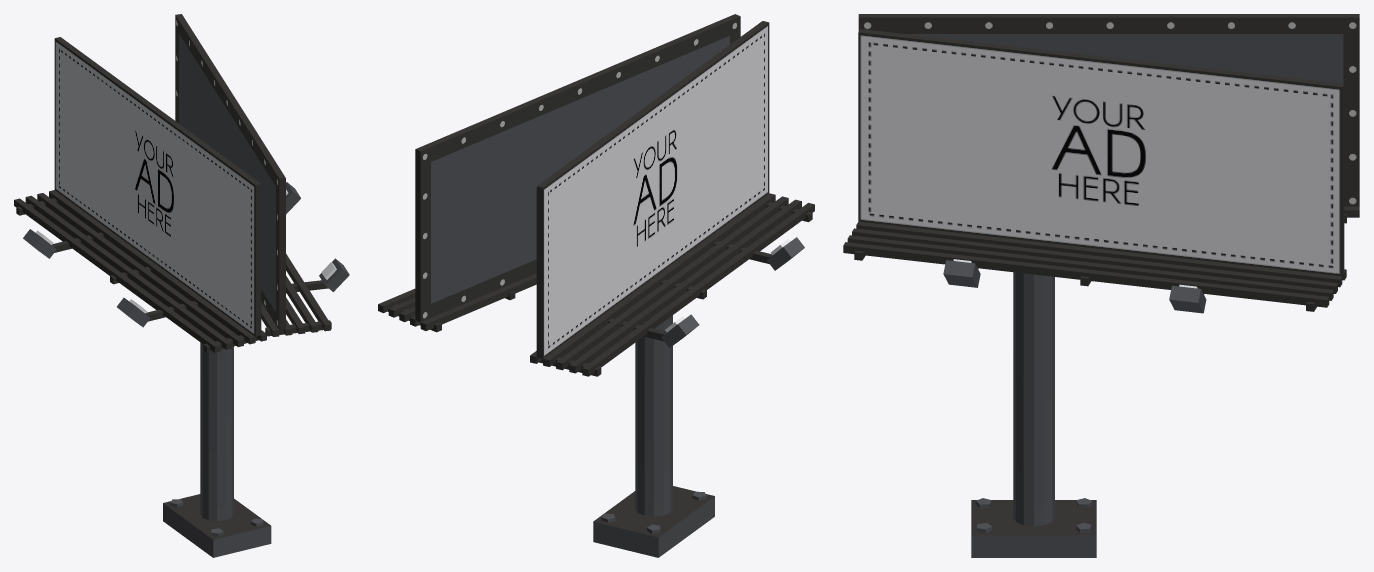
Rendered from Billboard 2.obj.
The picture shows the model from 3 angles, left to right: view 1: azimuth 30°, elevation 25°; view 2: azimuth 150°, elevation 25°; view 3: azimuth 270°, elevation 25°; orthographic projection. The views are drawn at different scales.
Parts seen in each view (by area): view 1: Billboard_2; view 2: Billboard_2; view 3: Billboard_2.
Boxes of the visible parts, left/top/right/bottom form: Billboard_2: left=14, top=14, right=349, bottom=557; Billboard_2: left=378, top=14, right=814, bottom=557; Billboard_2: left=843, top=14, right=1359, bottom=557.
Size of the model in its own units: 440 by 670 by 618.
1 material, 1 textured.
